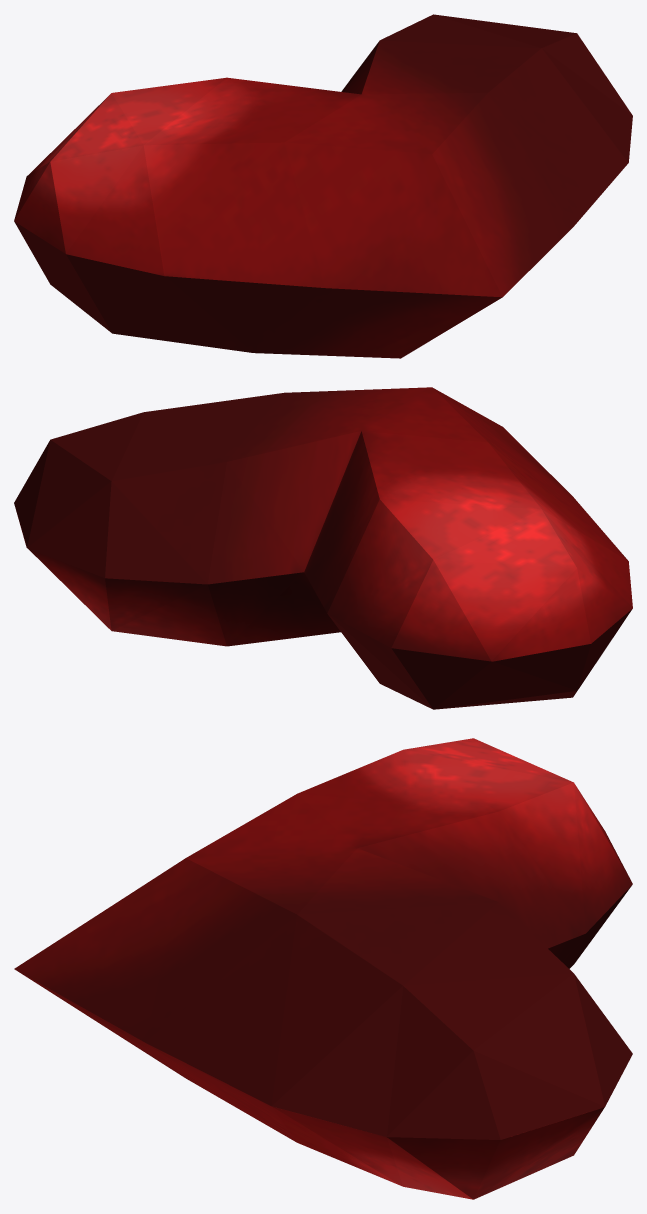
File: heart.dae
The picture shows the model from 3 angles, top to bottom: view 1: azimuth 30°, elevation 25°; view 2: azimuth 150°, elevation 25°; view 3: azimuth 270°, elevation 25°; orthographic projection. The views are drawn at different scales.
Visible parts, largest first — view 1: Circle; view 2: Circle; view 3: Circle.
Part boxes in pixels (x1=…): Circle: x1=14, y1=14, x2=632, y2=358; Circle: x1=14, y1=387, x2=632, y2=709; Circle: x1=14, y1=738, x2=632, y2=1199.
Size of the model in its own units: 1.96 by 1.49 by 0.6734.
Materials: 1 (1 with a texture image).
